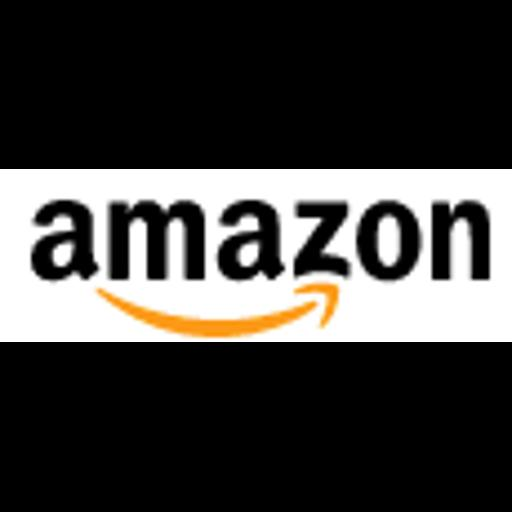Amazon: (0, 169, 512, 342)
